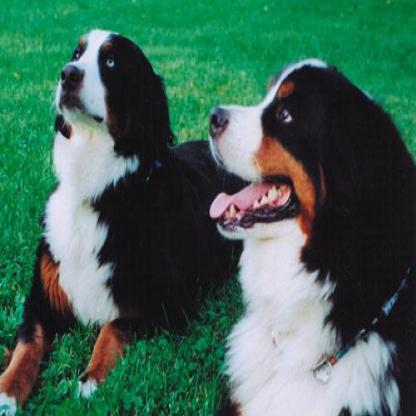Bernese_mountain_dog: (0, 26, 242, 414), (206, 57, 414, 414)
